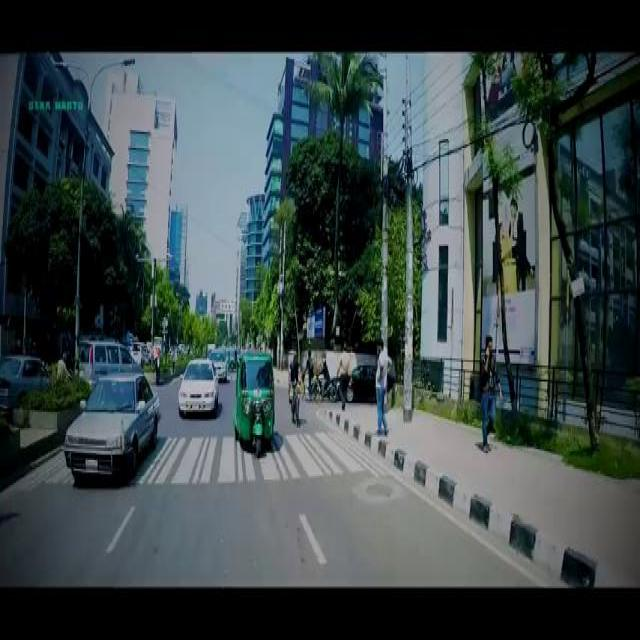bike: (310, 372, 336, 398), (291, 385, 302, 426)
vehicle: (62, 368, 160, 477), (234, 348, 277, 455), (1, 353, 54, 408), (79, 337, 138, 373), (178, 357, 218, 410), (335, 365, 377, 399), (208, 349, 227, 379)
